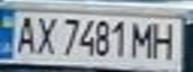1: (109, 18, 130, 57)
4: (75, 16, 96, 56)
7: (57, 15, 81, 56)
8: (93, 17, 112, 57)
A: (12, 12, 39, 55)
H: (148, 19, 184, 61)
M: (127, 19, 157, 60)
X: (33, 14, 60, 56)
